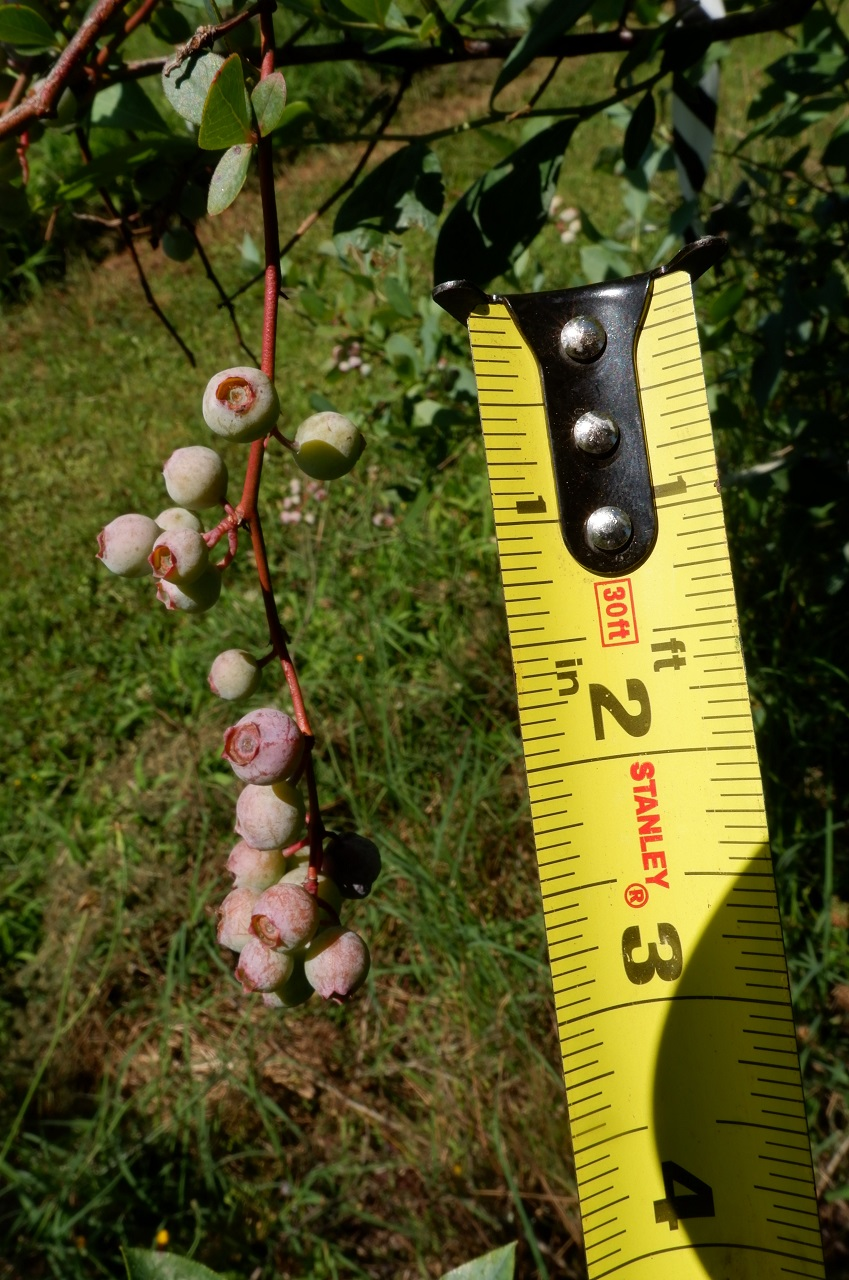Immature: (221, 708, 304, 785), (203, 365, 280, 444), (305, 925, 371, 1006), (293, 411, 368, 480), (250, 882, 318, 955), (280, 865, 344, 942), (235, 781, 306, 850), (162, 446, 229, 511), (95, 513, 160, 577), (234, 937, 295, 995), (154, 562, 222, 614), (147, 527, 209, 584), (263, 943, 314, 1009), (206, 648, 263, 702), (215, 887, 263, 951), (228, 838, 287, 890), (154, 507, 205, 535), (284, 845, 311, 874)
Mature: (322, 831, 382, 899)
